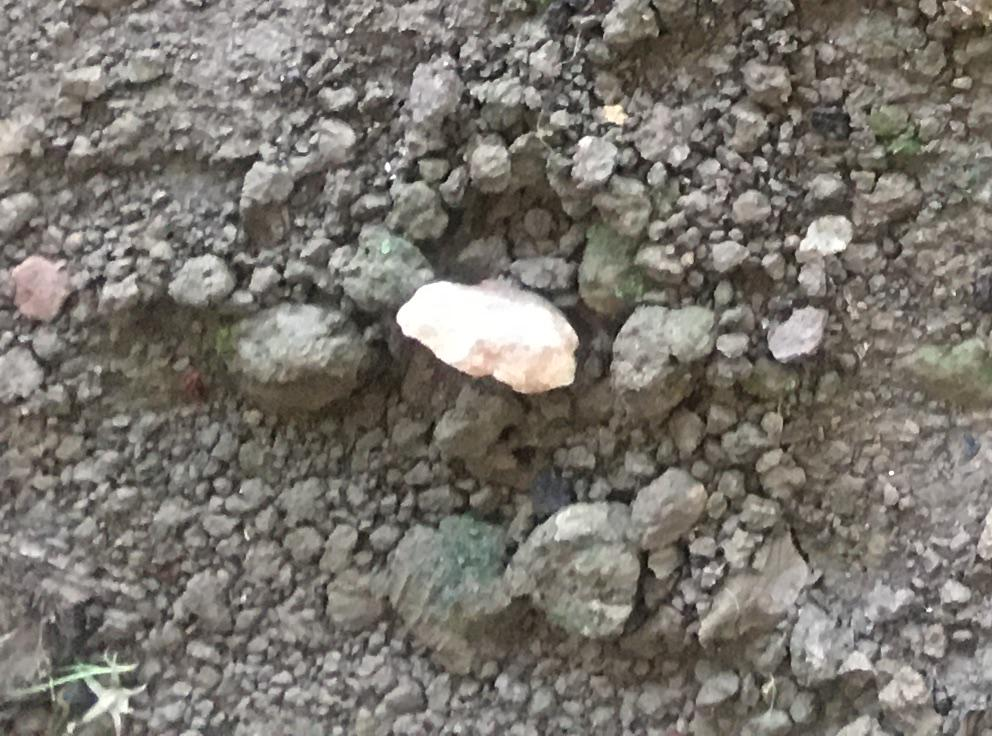block: (389, 274, 580, 395), (503, 494, 638, 643), (390, 506, 507, 670), (212, 304, 368, 416), (611, 299, 715, 428)
